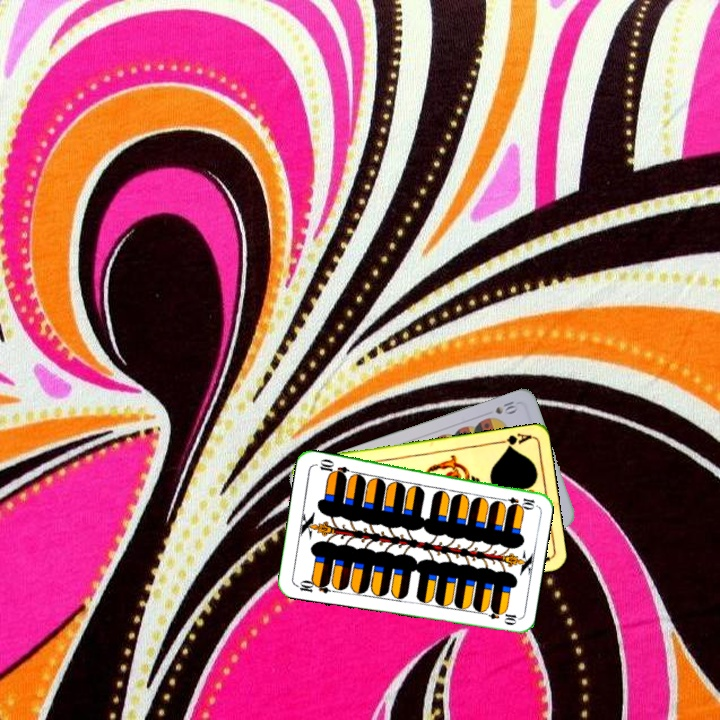E10: (292, 576, 333, 596), (496, 493, 537, 509)
GA: (493, 429, 533, 451)
S10: (491, 396, 521, 417)
